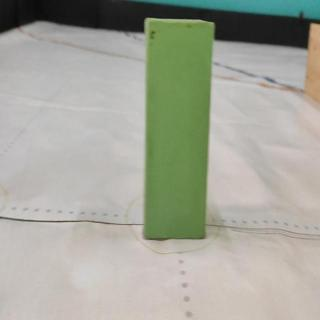greenbox: (141, 15, 215, 240)
